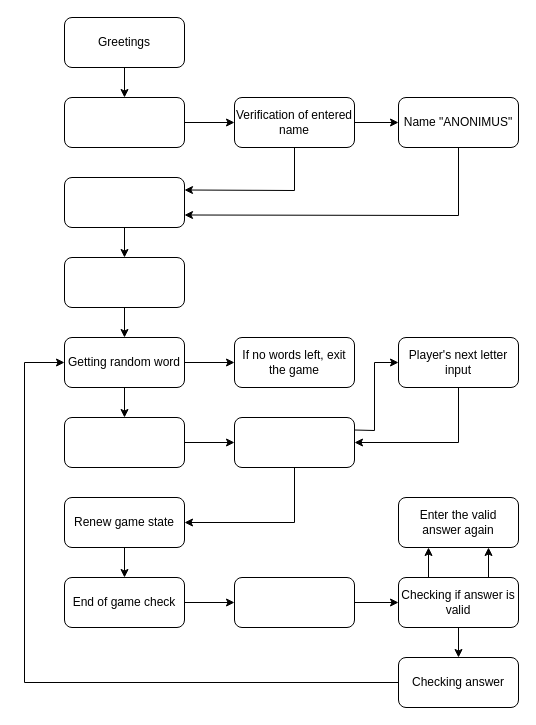
Some shapes in this 536 by 725 pixel diagram are drawn without their labels. The box of each missing label's shape, as (x1, y1, x2, y2) in pixels:
Ask if they want to play again: (234, 576, 354, 628)
Display current game state: (64, 416, 184, 468)
Enter player name: (64, 96, 184, 148)
Player enters a letter: (234, 416, 354, 468)
Reading words from the file: (64, 256, 184, 308)
Rules of the games: (64, 176, 184, 228)
